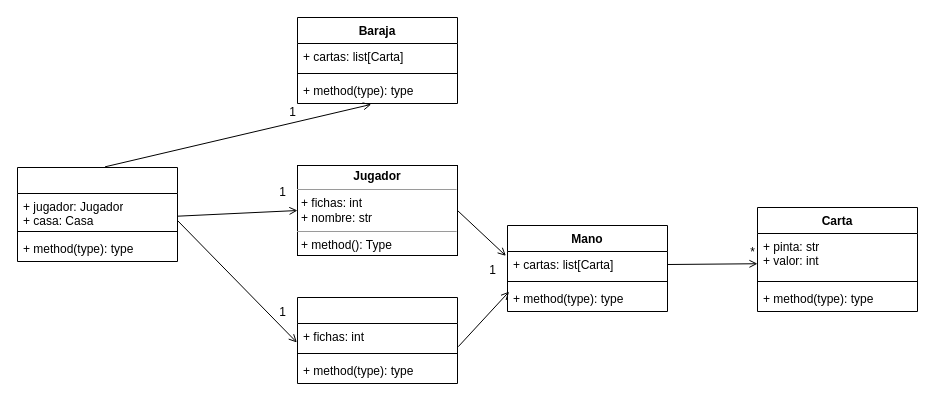
Image size: 935x404. Some labels were removed from this diagram. Each missing label, with the box of its shape:
Blackjack: (16, 166, 178, 262)
Casa: (296, 296, 458, 384)
